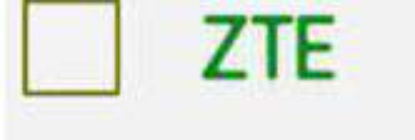CheckBox: (1, 1, 414, 139)
